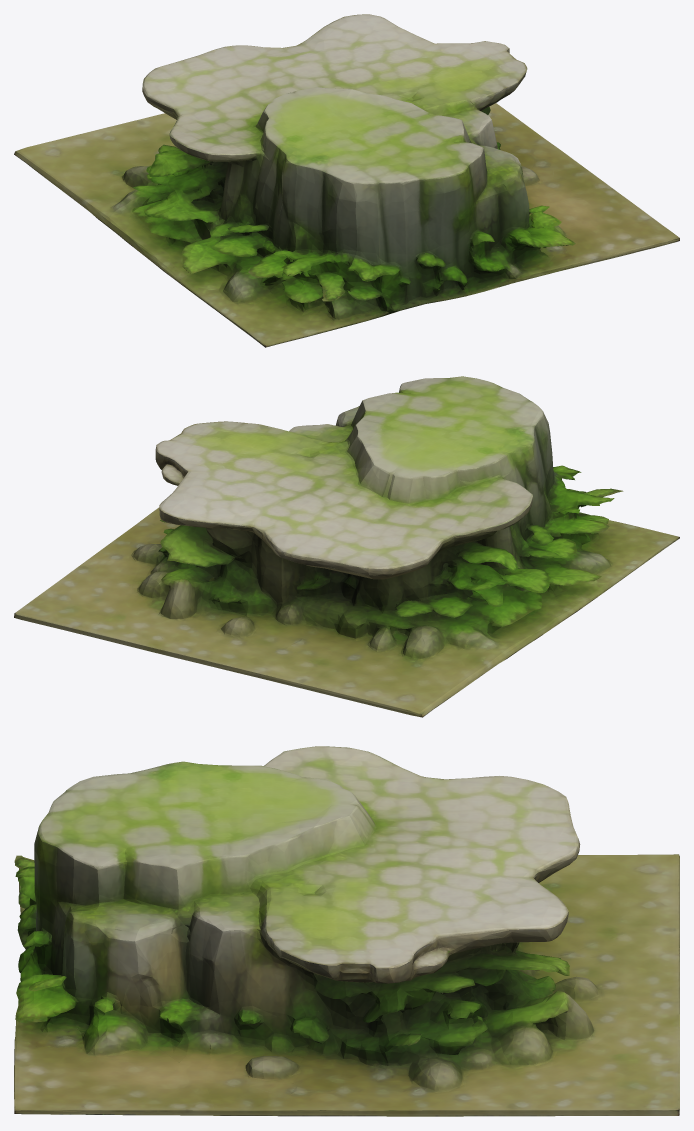
The model's file is momda001.glb.
3 renders of one model, top to bottom at view 1: azimuth 30°, elevation 25°; view 2: azimuth 150°, elevation 25°; view 3: azimuth 270°, elevation 25°, orthographic. The views are drawn at different scales.
Parts seen in each view (by area): view 1: world; view 2: world; view 3: world.
Boxes of the visible parts, box(x1,y1,x2,y2) form: world: box(14, 14, 679, 347); world: box(14, 376, 679, 717); world: box(14, 746, 679, 1116).
Size of the model in its own units: 0.9296 by 0.2833 by 1.
1 material, 1 textured.
